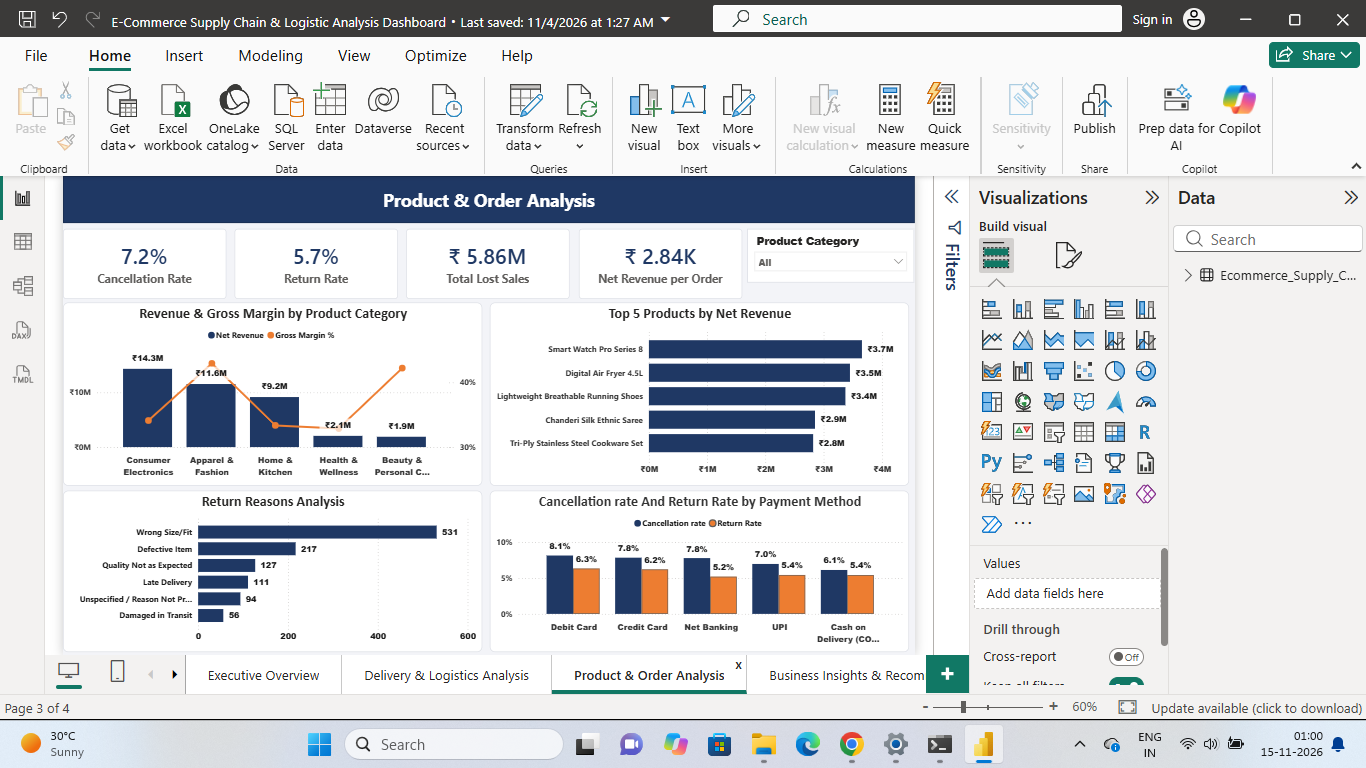

What the dashboard file says about the page in this screenshot:
{"tool":"powerbi","page":{"name":"Product & Order Analysis","canvas":[1280,720],"ordinal":2},"visuals":[{"type":"cardVisual","fields":{"Data":["Ecommerce_Supply_Chain_Clean.Cancellation rate"]},"box":[0,79.1,245,105],"z":0},{"type":"lineClusteredColumnComboChart","title":"Revenue & Gross Margin by Product Category","fields":{"Category":["Ecommerce_Supply_Chain_Clean.Product_Category"],"Y2":["Ecommerce_Supply_Chain_Clean.Gross Margin %"],"Y":["Ecommerce_Supply_Chain_Clean.Net_Revenue"]},"box":[0,190.3,630,275],"z":1000},{"type":"cardVisual","fields":{"Data":["Ecommerce_Supply_Chain_Clean.Return Rate"]},"box":[257.7,79.1,245,105],"z":2000},{"type":"cardVisual","fields":{"Data":["Ecommerce_Supply_Chain_Clean.Lost Sales (Lakh)"]},"box":[516.1,79.1,245,105],"z":3000},{"type":"cardVisual","fields":{"Data":["Ecommerce_Supply_Chain_Clean.Net Revenue per Order"]},"box":[774.6,79.1,245,105],"z":4000},{"type":"clusteredBarChart","title":"Top 5 Products by Net Revenue","fields":{"Category":["Ecommerce_Supply_Chain_Clean.Product_Name"],"Y":["Ecommerce_Supply_Chain_Clean.Net_Revenue"]},"box":[640.9,190.3,630,275],"z":5000},{"type":"clusteredBarChart","title":"Return Reasons Analysis","fields":{"Category":["Ecommerce_Supply_Chain_Clean.Return_Reason"],"Y":["Sum(Ecommerce_Supply_Chain_Clean.Return_Item_Flag)"]},"box":[0,473.2,630,243],"z":6000},{"type":"clusteredColumnChart","title":"Cancellation rate And Return Rate by Payment Method","fields":{"Category":["Ecommerce_Supply_Chain_Clean.Payment_Method"],"Y":["Ecommerce_Supply_Chain_Clean.Cancellation rate","Ecommerce_Supply_Chain_Clean.Return Rate"]},"box":[641.6,473.2,630,243],"z":7000},{"type":"slicer","fields":{"Values":["Ecommerce_Supply_Chain_Clean.Product_Category"]},"box":[1028.9,79.1,250.9,80.8],"z":8000},{"type":"shape","box":[0,0,1279.8,70.7],"z":9000}]}

Visuals, with their boxes on the page's 1280x720 design canvas (x1, y1, x2, y2). These are canvas units, not pixel positions in the 1366x768 screenshot, which may show the page scaled, cropped or inside an application window:
cardVisual - Ecommerce_Supply_Chain_Clean.Cancellation rate: x1=0, y1=79, x2=245, y2=184
"Revenue & Gross Margin by Product Category" lineClusteredColumnComboChart: x1=0, y1=190, x2=630, y2=465
cardVisual - Ecommerce_Supply_Chain_Clean.Return Rate: x1=258, y1=79, x2=503, y2=184
cardVisual - Ecommerce_Supply_Chain_Clean.Lost Sales (Lakh): x1=516, y1=79, x2=761, y2=184
cardVisual - Ecommerce_Supply_Chain_Clean.Net Revenue per Order: x1=775, y1=79, x2=1020, y2=184
"Top 5 Products by Net Revenue" clusteredBarChart: x1=641, y1=190, x2=1271, y2=465
"Return Reasons Analysis" clusteredBarChart: x1=0, y1=473, x2=630, y2=716
"Cancellation rate And Return Rate by Payment Method" clusteredColumnChart: x1=642, y1=473, x2=1272, y2=716
slicer - Ecommerce_Supply_Chain_Clean.Product_Category: x1=1029, y1=79, x2=1280, y2=160
shape: x1=0, y1=0, x2=1280, y2=71
